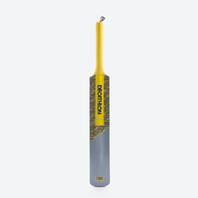bottom left: (86, 178, 100, 190)
bottom right: (104, 176, 120, 188)
top left: (82, 72, 97, 86)
top right: (104, 71, 116, 87)
